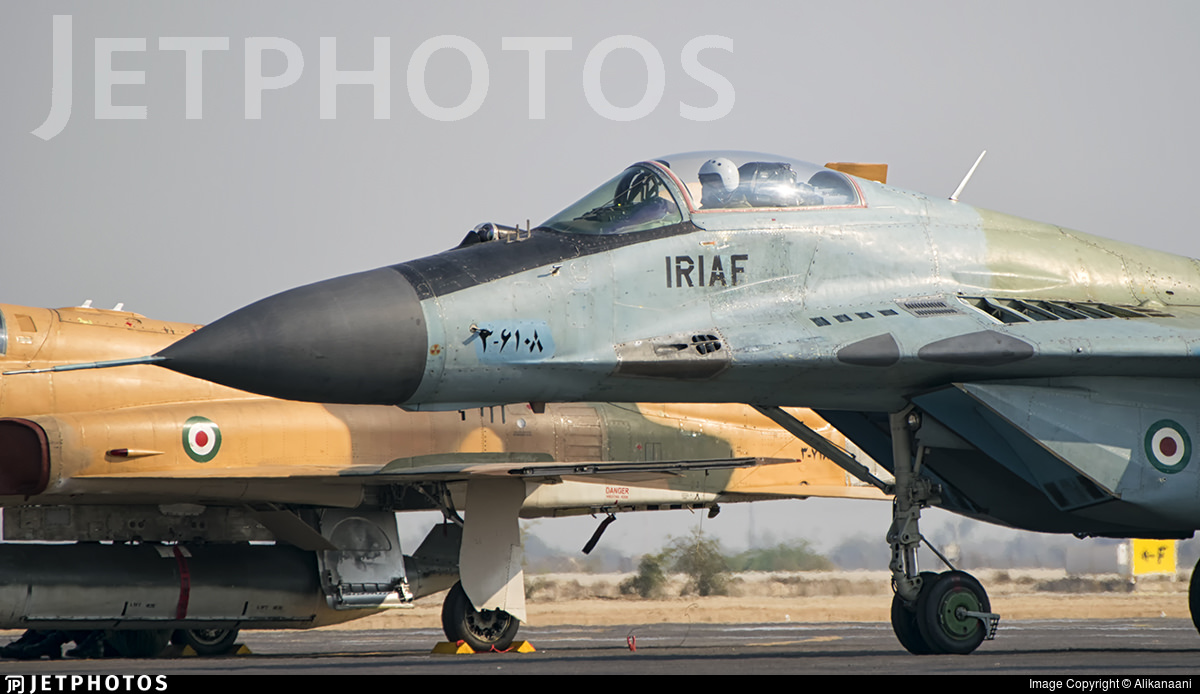Iran: (173, 412, 231, 468), (1144, 416, 1192, 476)
Mig-29: (132, 81, 1200, 652)
